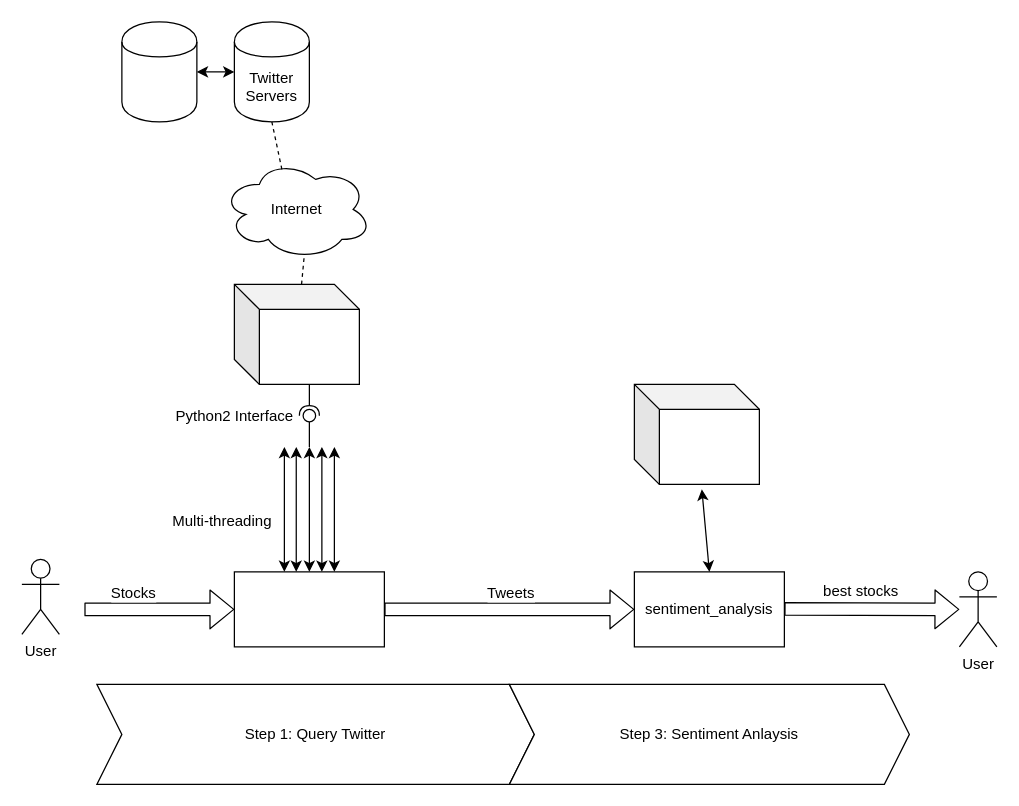
Image size: 1019x806. Some labels were removed from this diagram. Here are the shapes that lost their labels. From the top down, the centre of each, then its label:
At point 159,71: "Twitter database".
At point 296,333: "GetOldTweets".
At point 696,433: "TextBlob".
At point 308,609: "tweets_handler".
